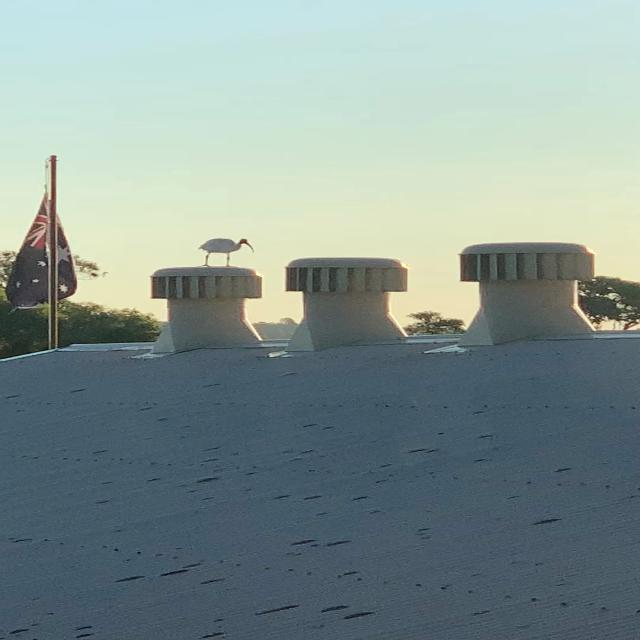Birds-Ibis: (194, 234, 262, 272)
